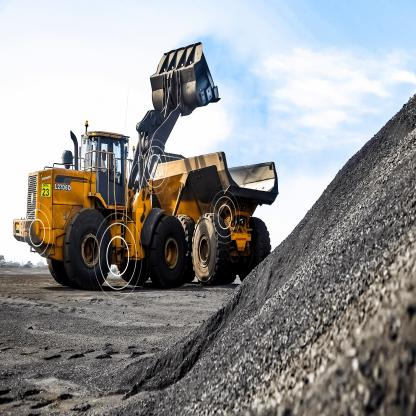bull_dozer/loader/grader: (12, 26, 220, 293)
